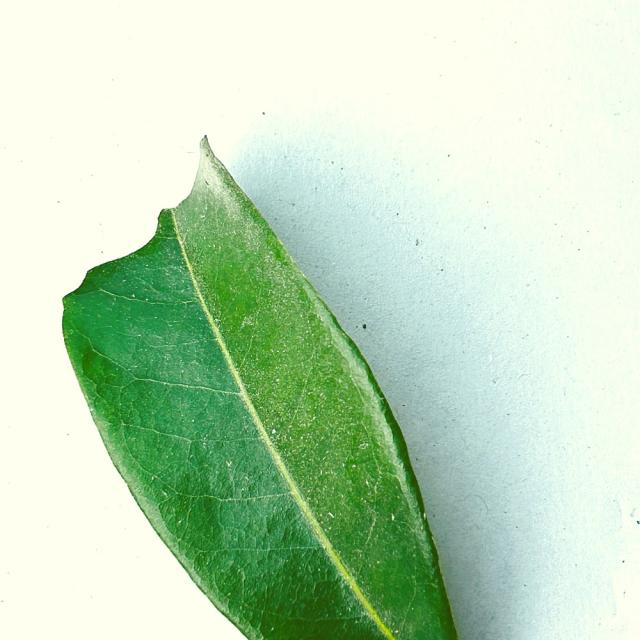Deficiency Leaf: (72, 130, 200, 263)
Lychee: (60, 136, 459, 639)
